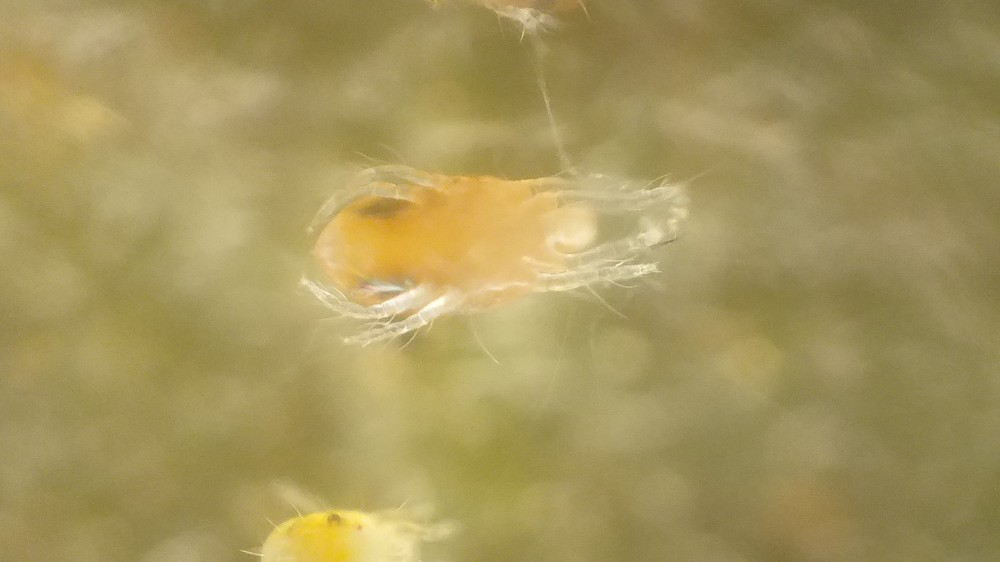Aracnido Rojo: (287, 133, 751, 372), (224, 464, 455, 562)
